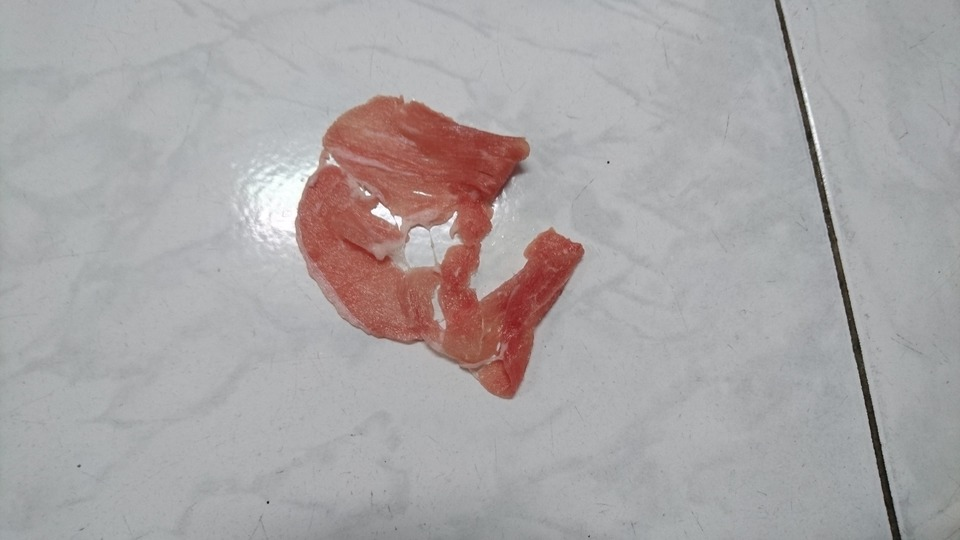restructured meat: (291, 94, 585, 403)
